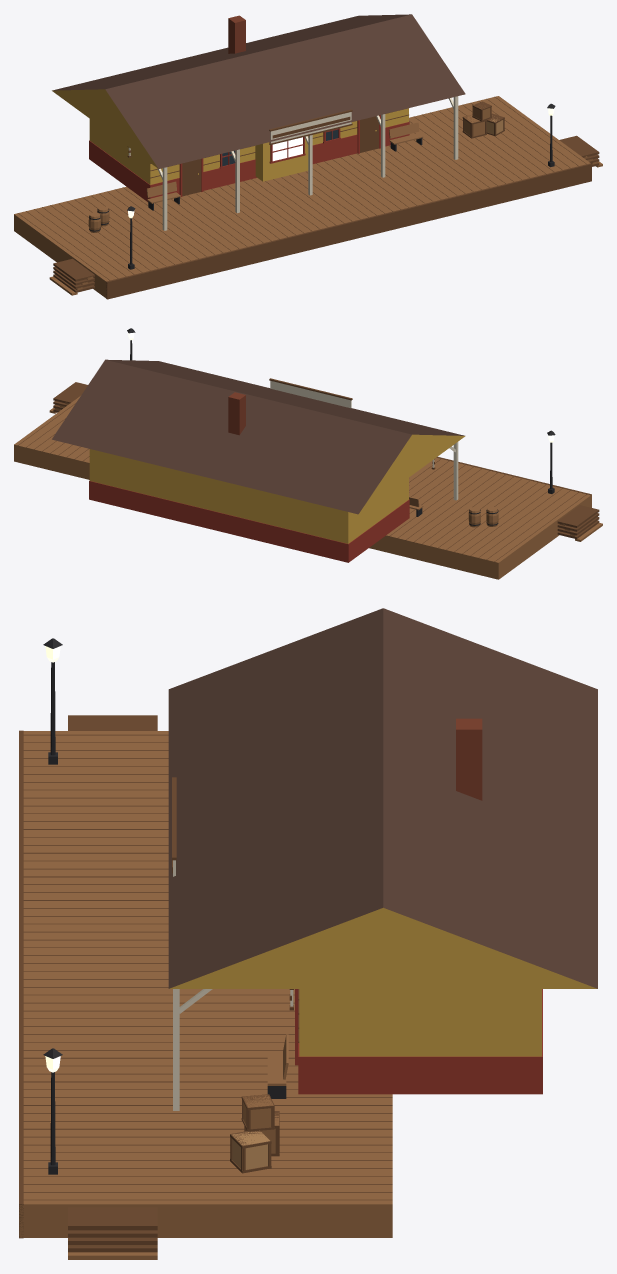
Rendered from SM_Station.fbx.
3 views of the same model, one above another, from view 1: azimuth 30°, elevation 25°; view 2: azimuth 150°, elevation 25°; view 3: azimuth 270°, elevation 25° (orthographic). The views are drawn at different scales.
Parts seen in each view (by area): view 1: Station; view 2: Station; view 3: Station.
Boxes of the visible parts, x1,y1,x2,y2 form: Station: [14, 14, 602, 299]; Station: [14, 328, 602, 579]; Station: [19, 608, 597, 1259].
Size of the model in its own units: 3286 by 1551 by 821.
